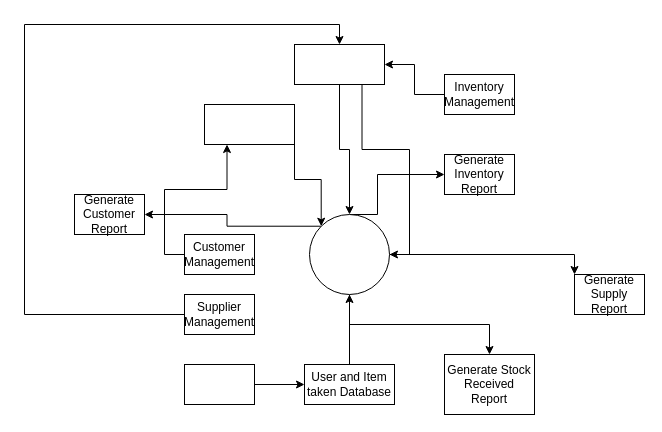
Some shapes in this 662 by 432 pixel diagram are drawn without their labels. Here are the shapes that lost their labels. From the top down, the box of each, then its label:
(294, 44, 384, 84): Item Database
(204, 104, 294, 144): User Database
(308, 214, 390, 294): Inventory Management System
(184, 364, 254, 404): Receiving Stock Management
